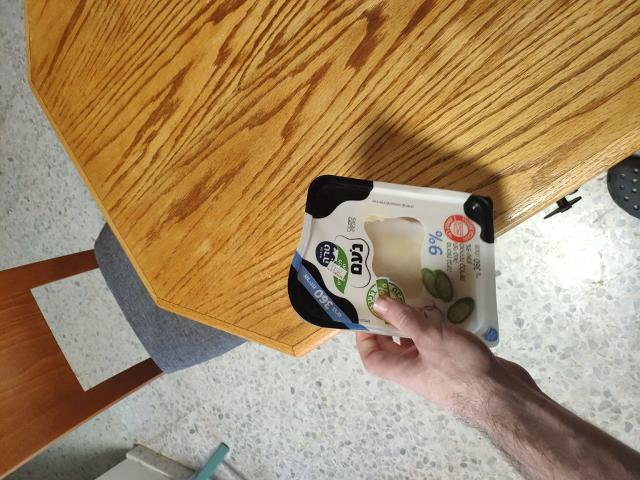cheese: (279, 193, 524, 343)
